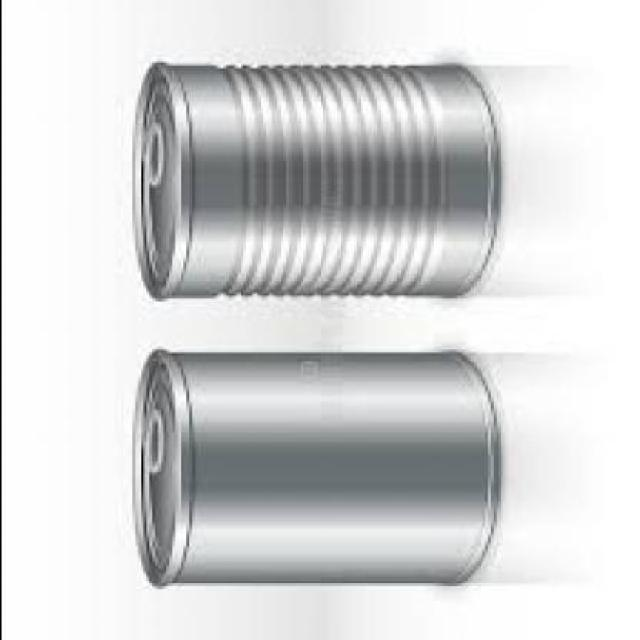METAL: (128, 344, 498, 584), (128, 59, 494, 296)
